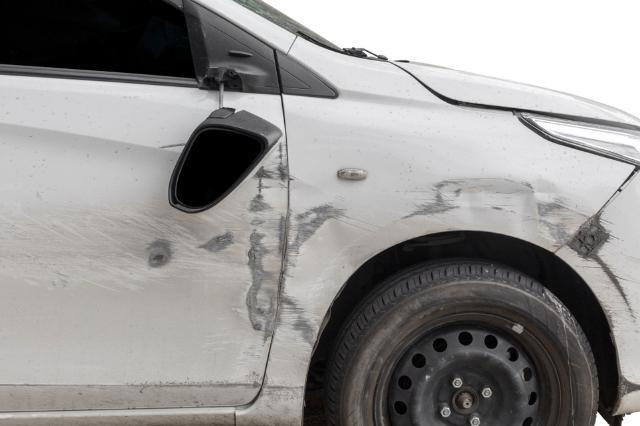Bumper: (588, 166, 639, 408)
Door: (0, 94, 286, 404)
Fender: (298, 121, 580, 258)
